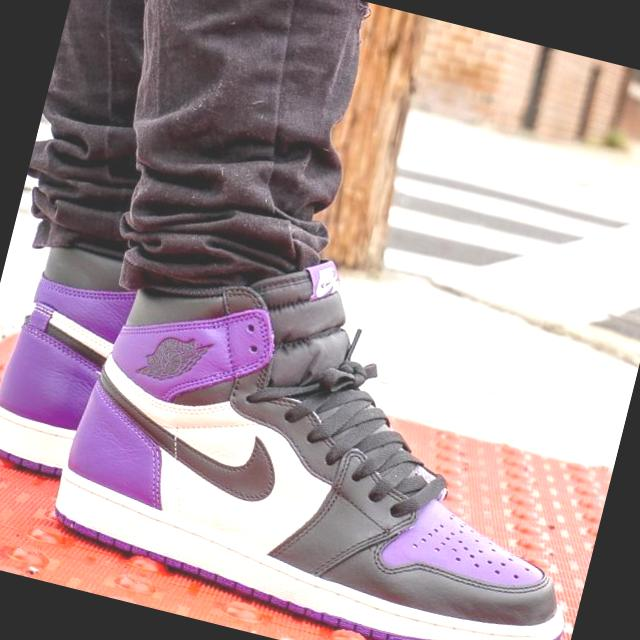nike_original_jordan: (23, 177, 640, 640)
